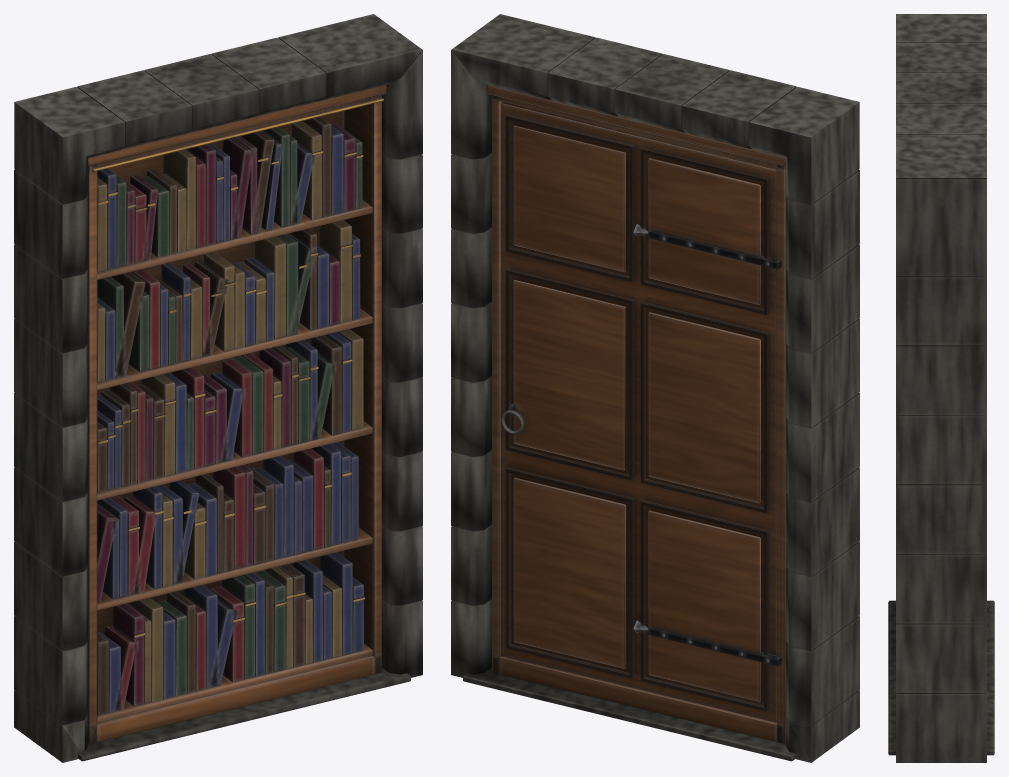
File: BookcaseDoor.fbx
3 views of the same model, side by side, from view 1: azimuth 30°, elevation 25°; view 2: azimuth 150°, elevation 25°; view 3: azimuth 270°, elevation 25° (orthographic). The views are drawn at different scales.
Parts seen in each view (by area): view 1: BookcaseDoor_Leaf0, BookcaseDoor_Main; view 2: BookcaseDoor_Leaf0, BookcaseDoor_Main; view 3: BookcaseDoor_Main.
Boxes of the visible parts, bbox=[...] form: BookcaseDoor_Leaf0: bbox=[87, 85, 386, 743]; BookcaseDoor_Main: bbox=[14, 14, 422, 762]; BookcaseDoor_Leaf0: bbox=[487, 85, 786, 743]; BookcaseDoor_Main: bbox=[451, 14, 859, 762]; BookcaseDoor_Main: bbox=[888, 14, 994, 762].
Bounding box in the file's own units: 513 × 852 × 140.
